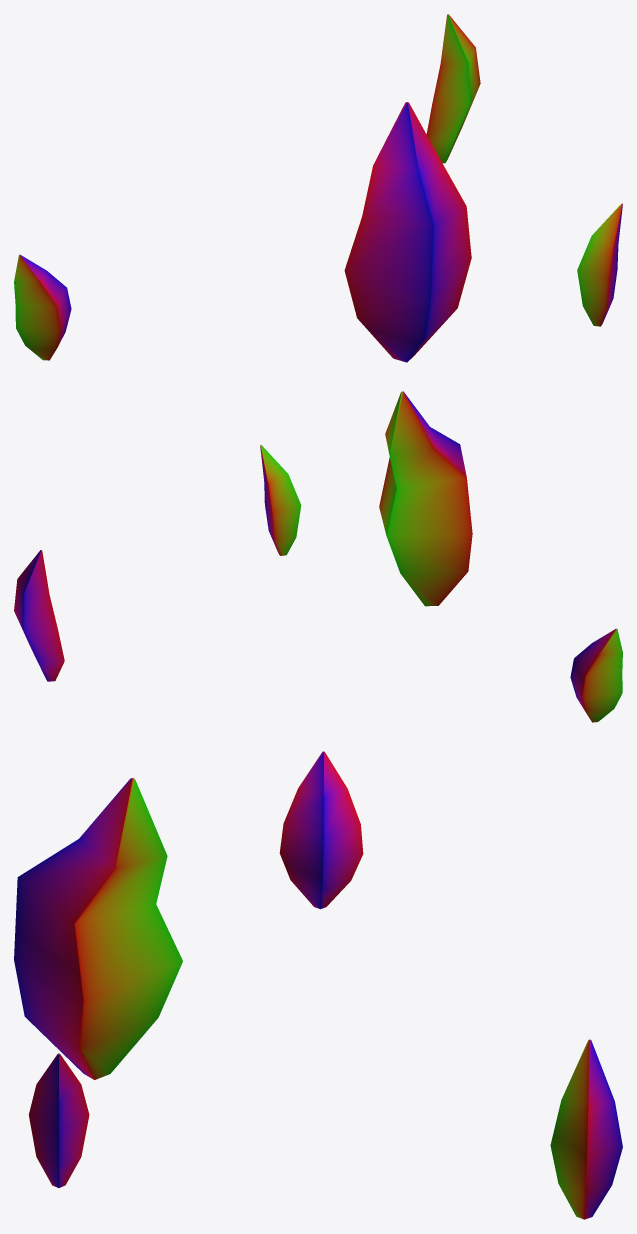
Rendered from SM_Grass_Clump_04.fbx.
The picture shows the model from 3 angles, top to bottom: view 1: azimuth 30°, elevation 25°; view 2: azimuth 150°, elevation 25°; view 3: azimuth 270°, elevation 25°; orthographic projection. The views are drawn at different scales.
Parts seen in each view (by area): view 1: grass_clump_04_geo; view 2: grass_clump_04_geo; view 3: grass_clump_04_geo.
Boxes of the visible parts, x1=… form: grass_clump_04_geo: x1=14, y1=14, x2=622, y2=362; grass_clump_04_geo: x1=14, y1=391, x2=622, y2=722; grass_clump_04_geo: x1=14, y1=751, x2=622, y2=1219.
Size of the model in its own units: 116 by 47.01 by 84.46.
